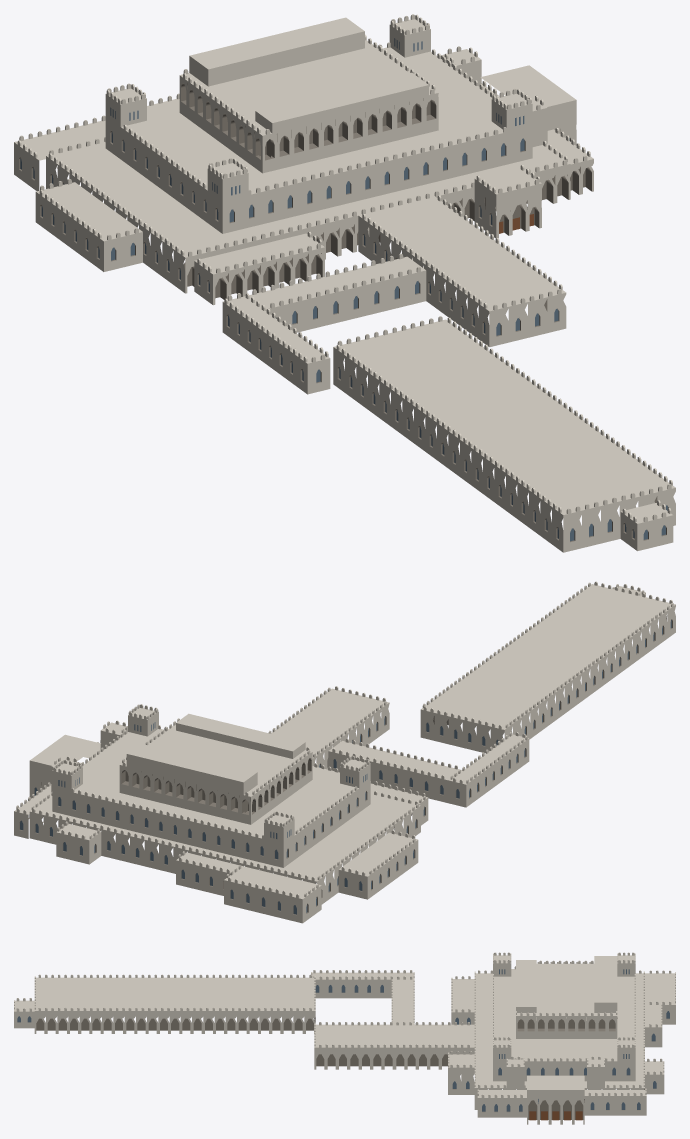
Rendered from muscat-royal-opera-house.detail.glb.
3 views of the same model, one above another, from view 1: azimuth 30°, elevation 25°; view 2: azimuth 150°, elevation 25°; view 3: azimuth 270°, elevation 25° (orthographic). The views are drawn at different scales.
Parts seen in each view (by area): view 1: Royal Opera House Muscat; view 2: Royal Opera House Muscat; view 3: Royal Opera House Muscat.
Boxes of the visible parts, <box> form: Royal Opera House Muscat: <box>14,14,675,552</box>; Royal Opera House Muscat: <box>14,581,675,923</box>; Royal Opera House Muscat: <box>14,952,675,1124</box>.
Size of the model in its own units: 145 by 36 by 288.
